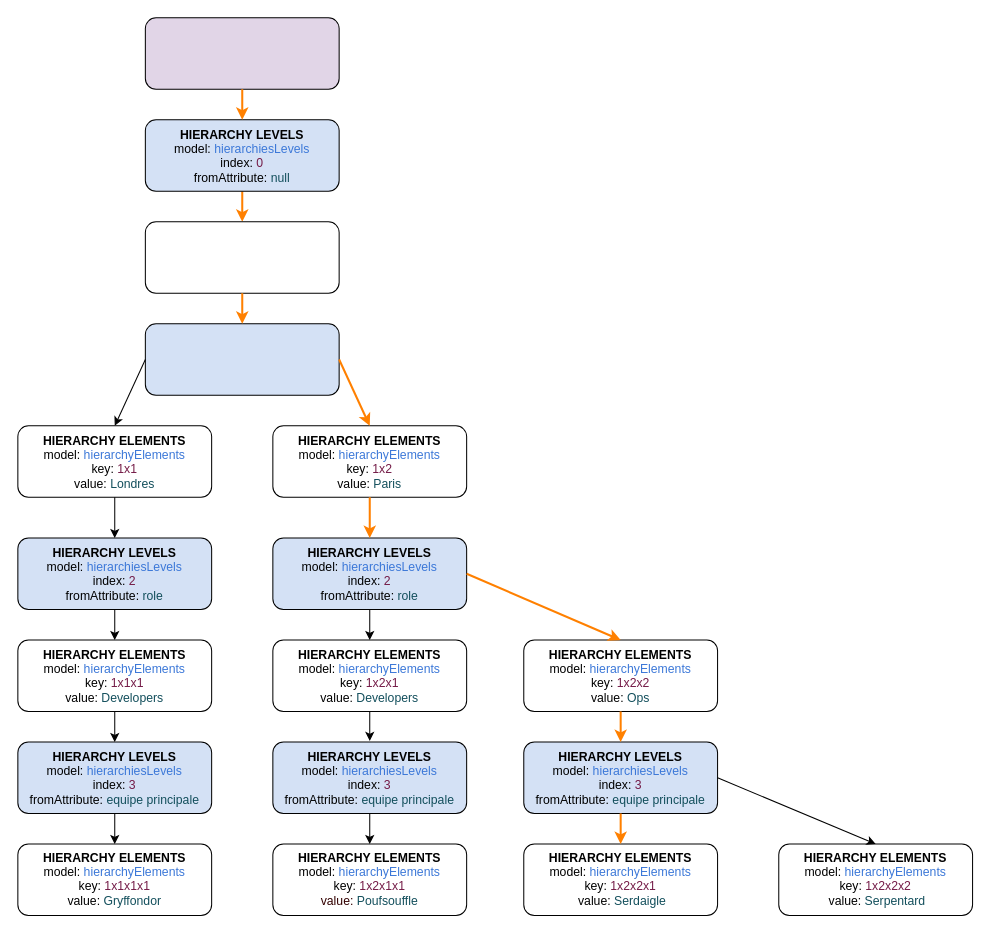
Image size: 990x933. Some labels were removed from this diagram. The box of each missing label's shape, as (x1, y1, x2, y2) in pixels:
HIERARCHY ELEMENTS model: hierarchyElements key: 1 value: companyOne: (144, 221, 339, 293)
HIERARCHY LEVELS model: hierarchiesLevels index: 1 fromAttribute: localisation: (144, 323, 339, 395)
HIERARCHY model: hierarchies: (144, 17, 339, 89)
